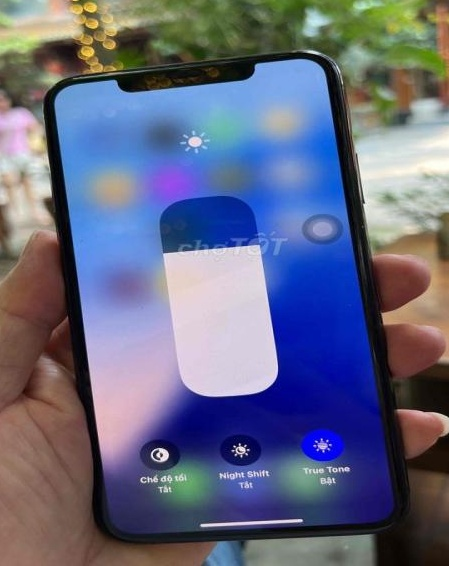physical_damage: (119, 55, 247, 98)
